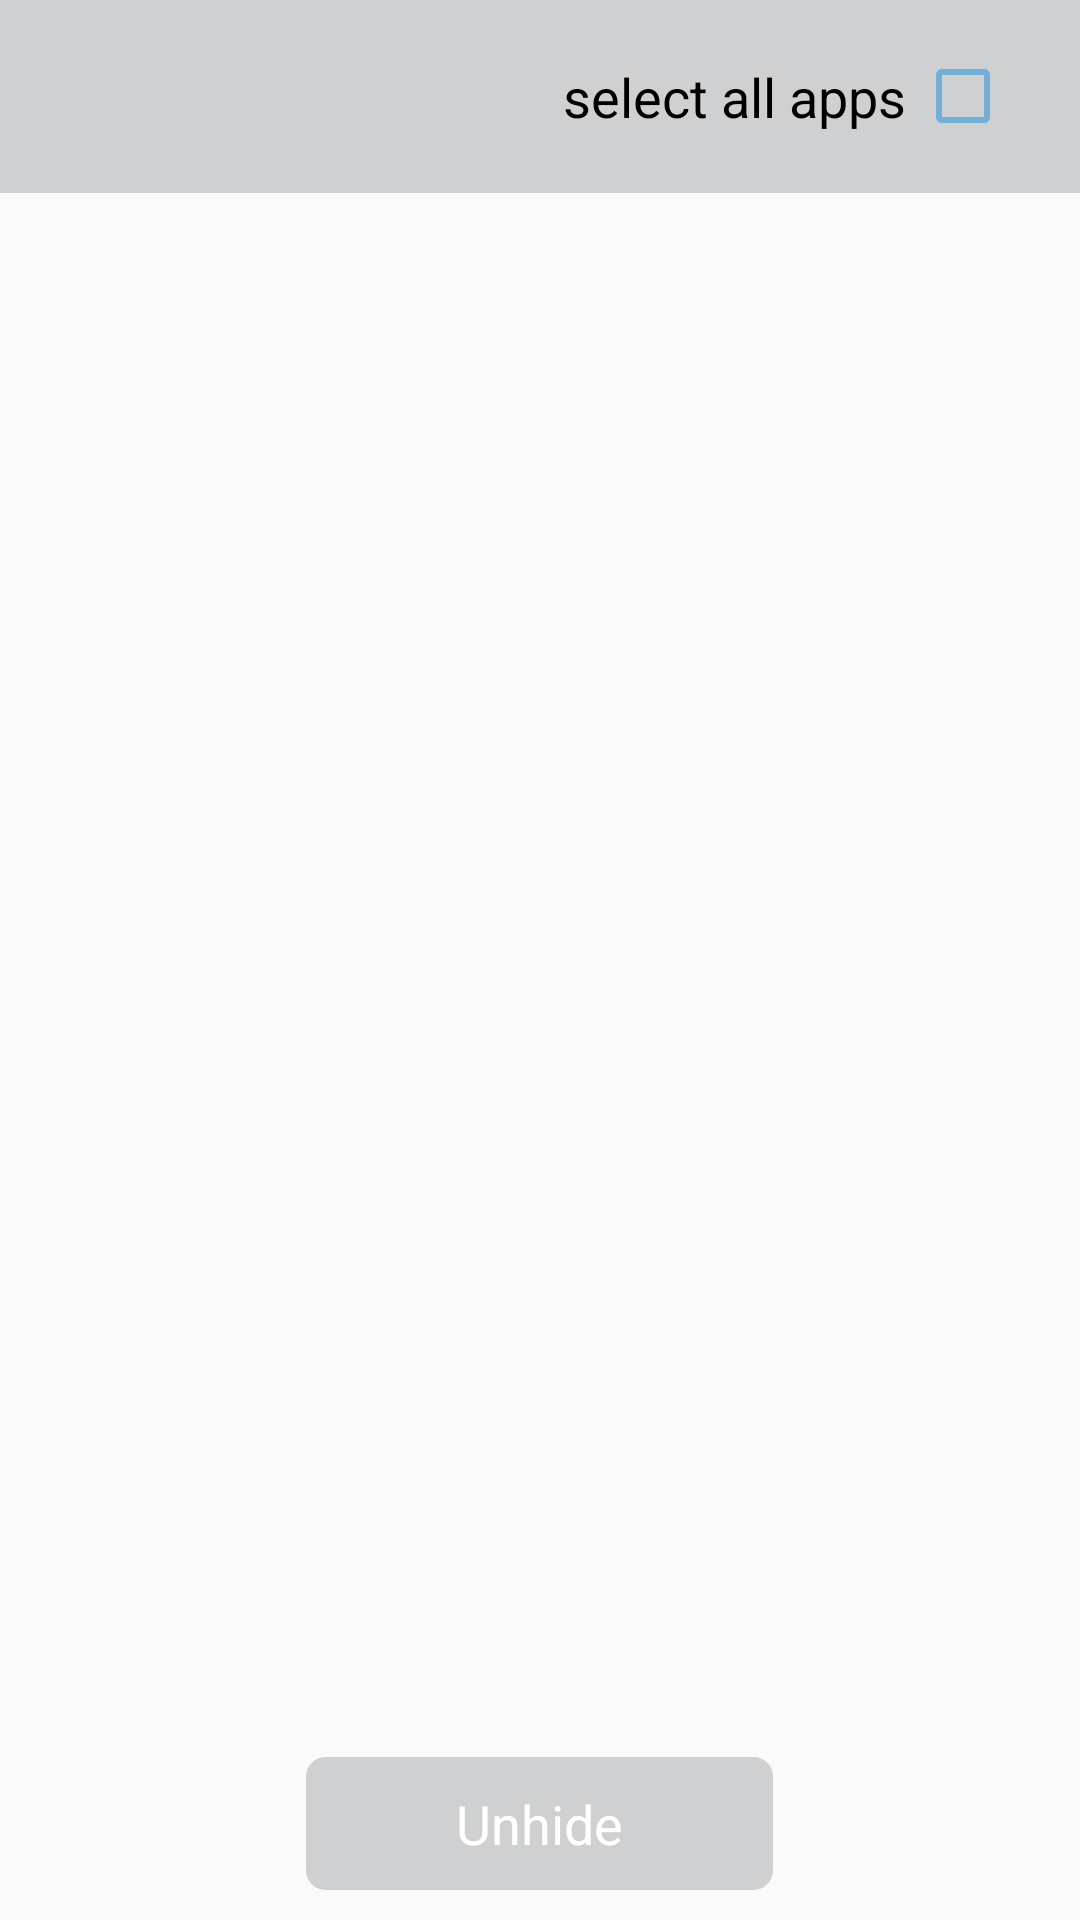

Locate icon controls on the screen. Image size 1080px×1920px, boxes as (x1, y1, x2, y2).
apps check: (936, 69, 990, 123)
